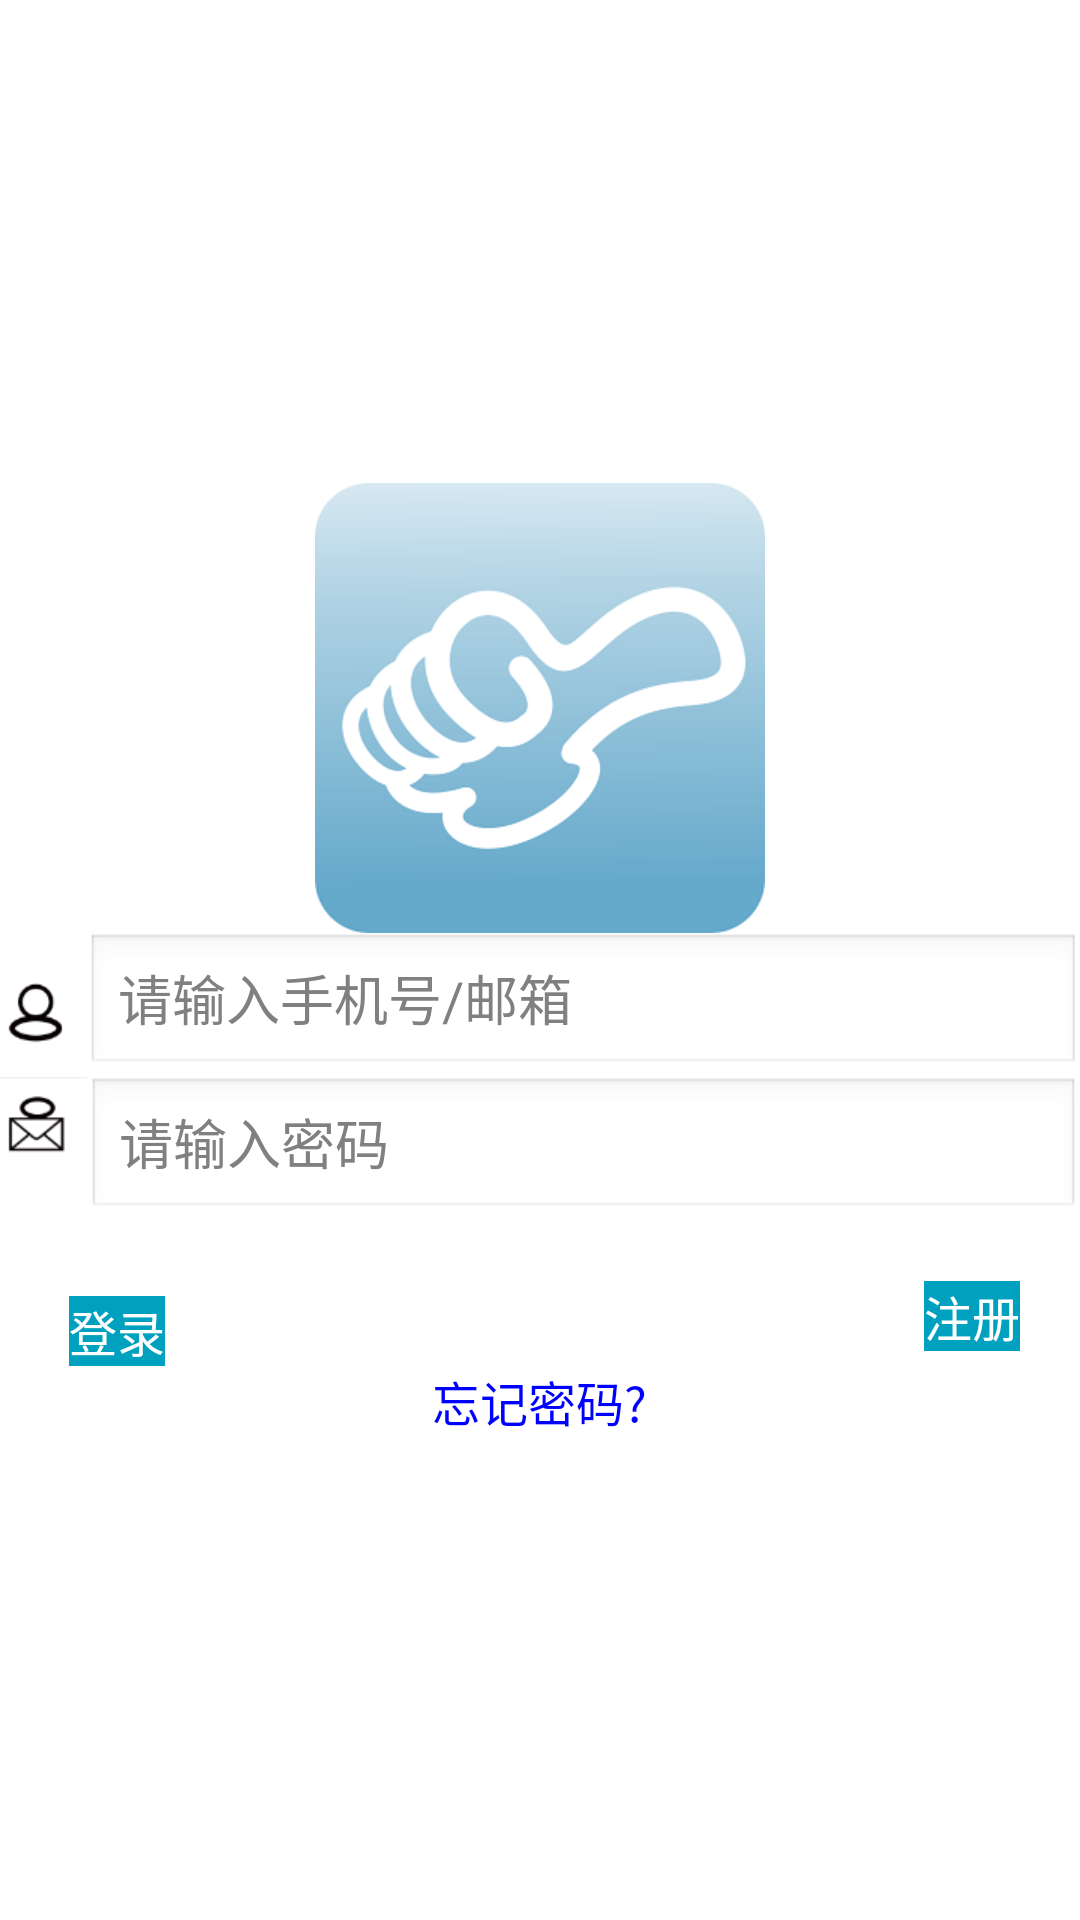

Where icons sit on this 1080x1920 app screen, as bbox(x1, y1, x2, y2):
admin: bbox(8, 983, 62, 1042)
